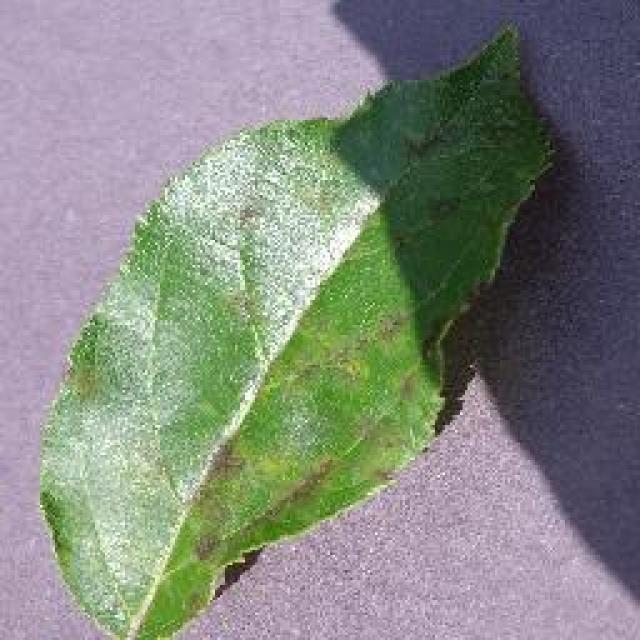apple scab disease: (35, 22, 557, 638)
